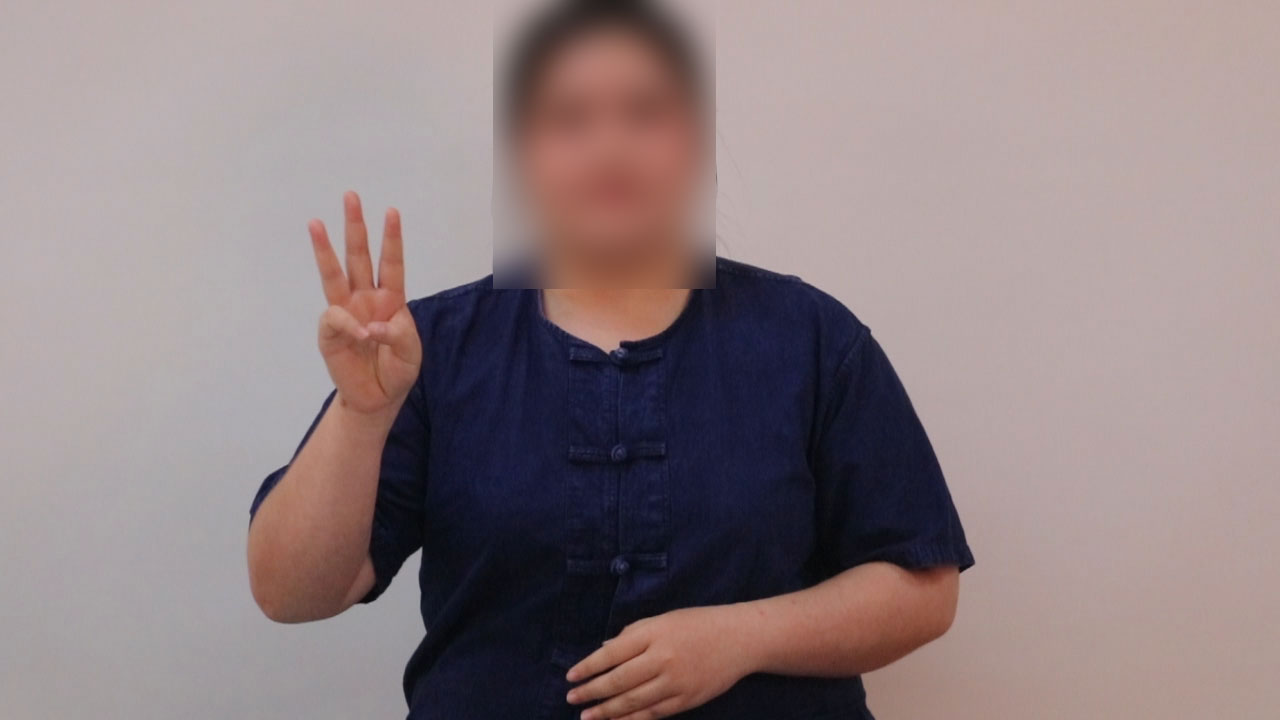wor: (296, 180, 424, 421)
